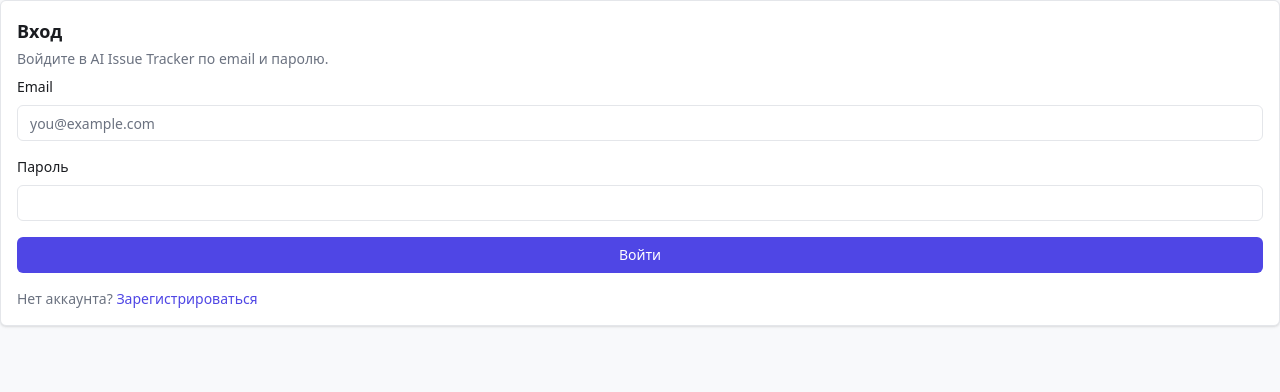
Test: LoginForm › показывает клиентские ошибки валидации при пустой форме
Click the button "Войти".
click(640, 255)  # box [17,237,1263,273]
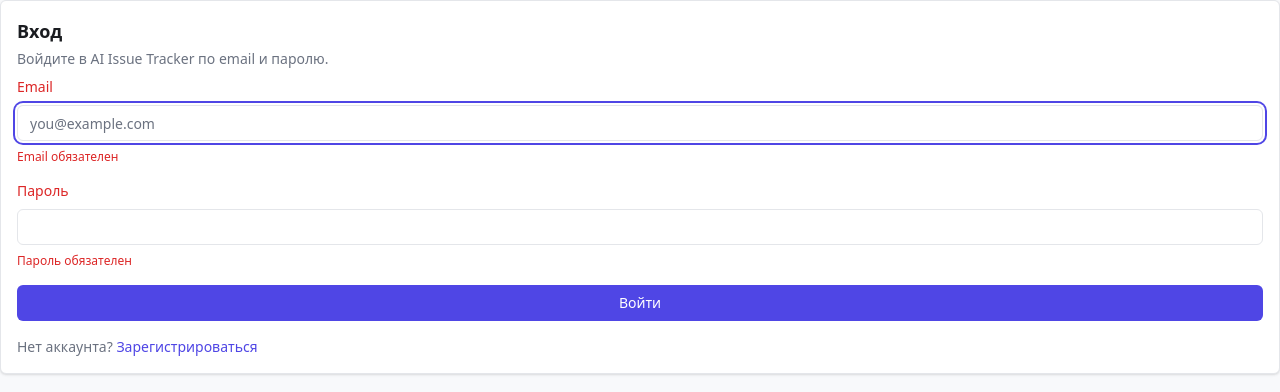
Now the text "Email обязателен" is shown, box [17,148,118,165]
Now the text "Пароль обязателен" is shown, box [17,252,132,269]
